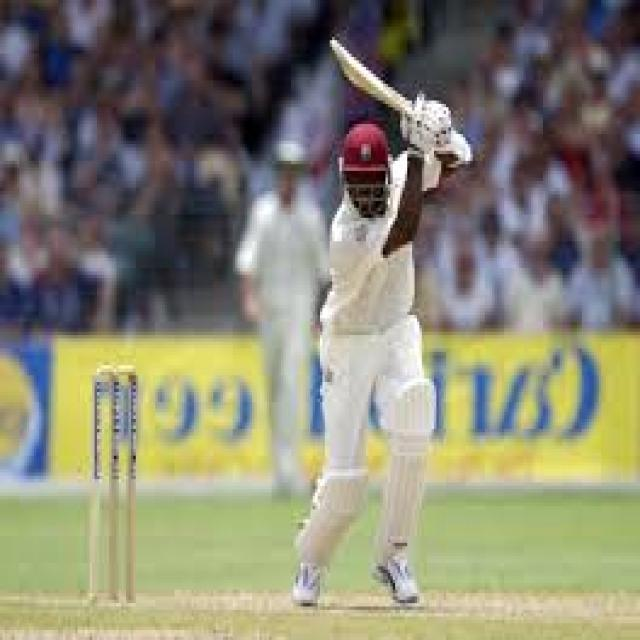bat: (322, 38, 412, 114)
toe: (320, 33, 349, 54)
